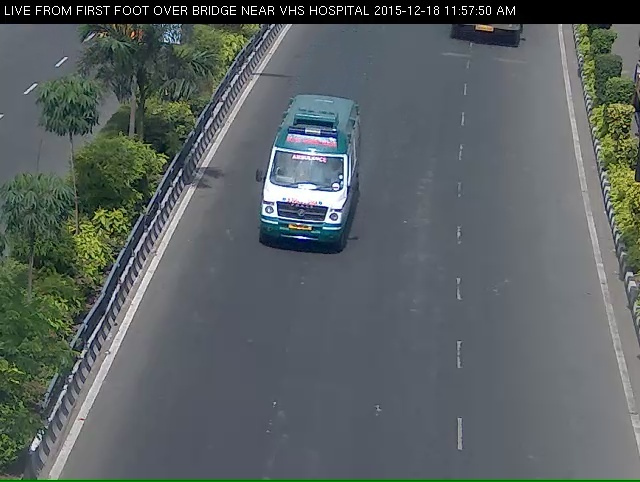Bus: (256, 98, 352, 284)
